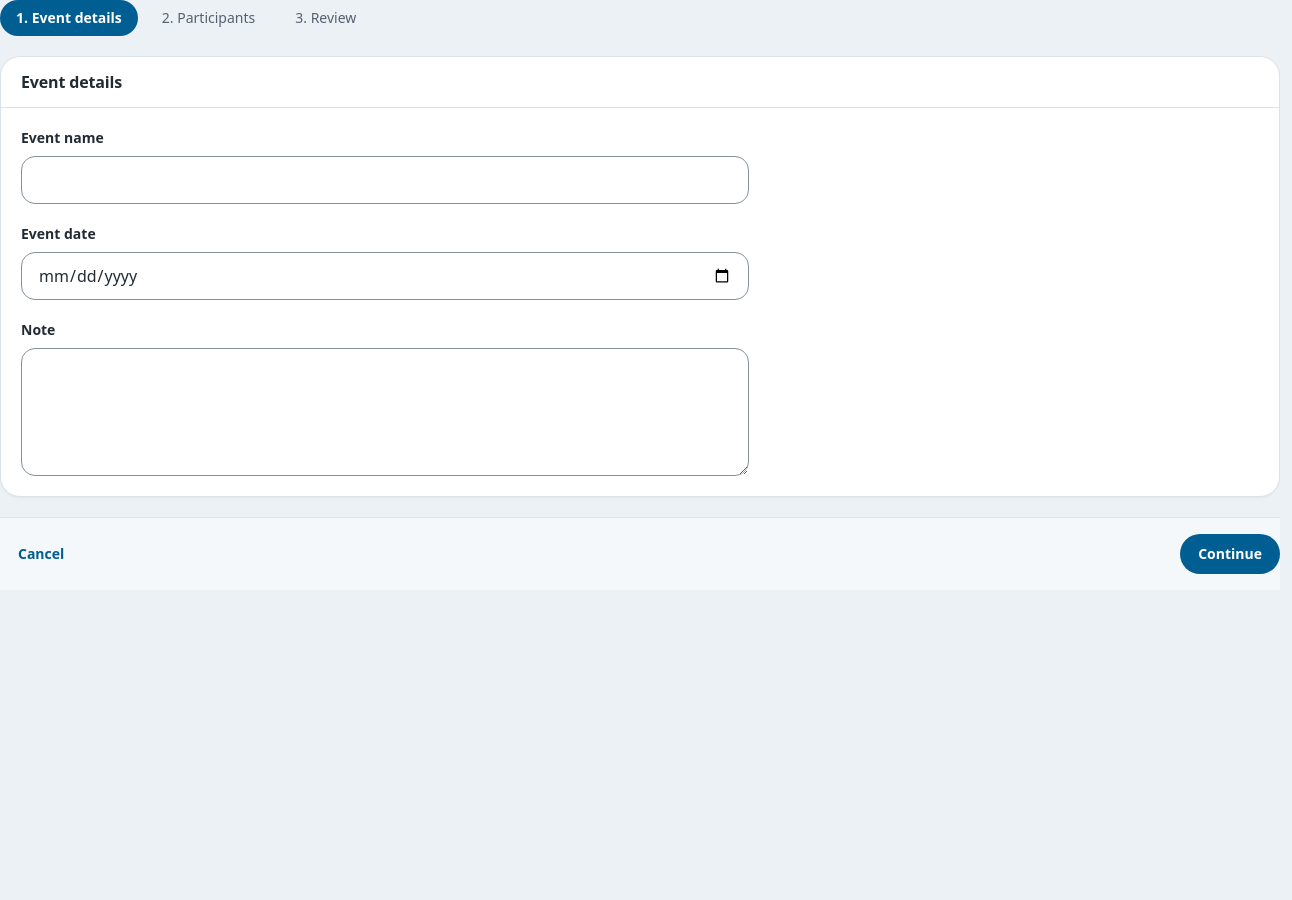
Test: event-first participant proposal form › shows a missing name or date at its own field and moves focus there
Click the button "Continue" at (1230, 554), box [1180,534,1280,574]
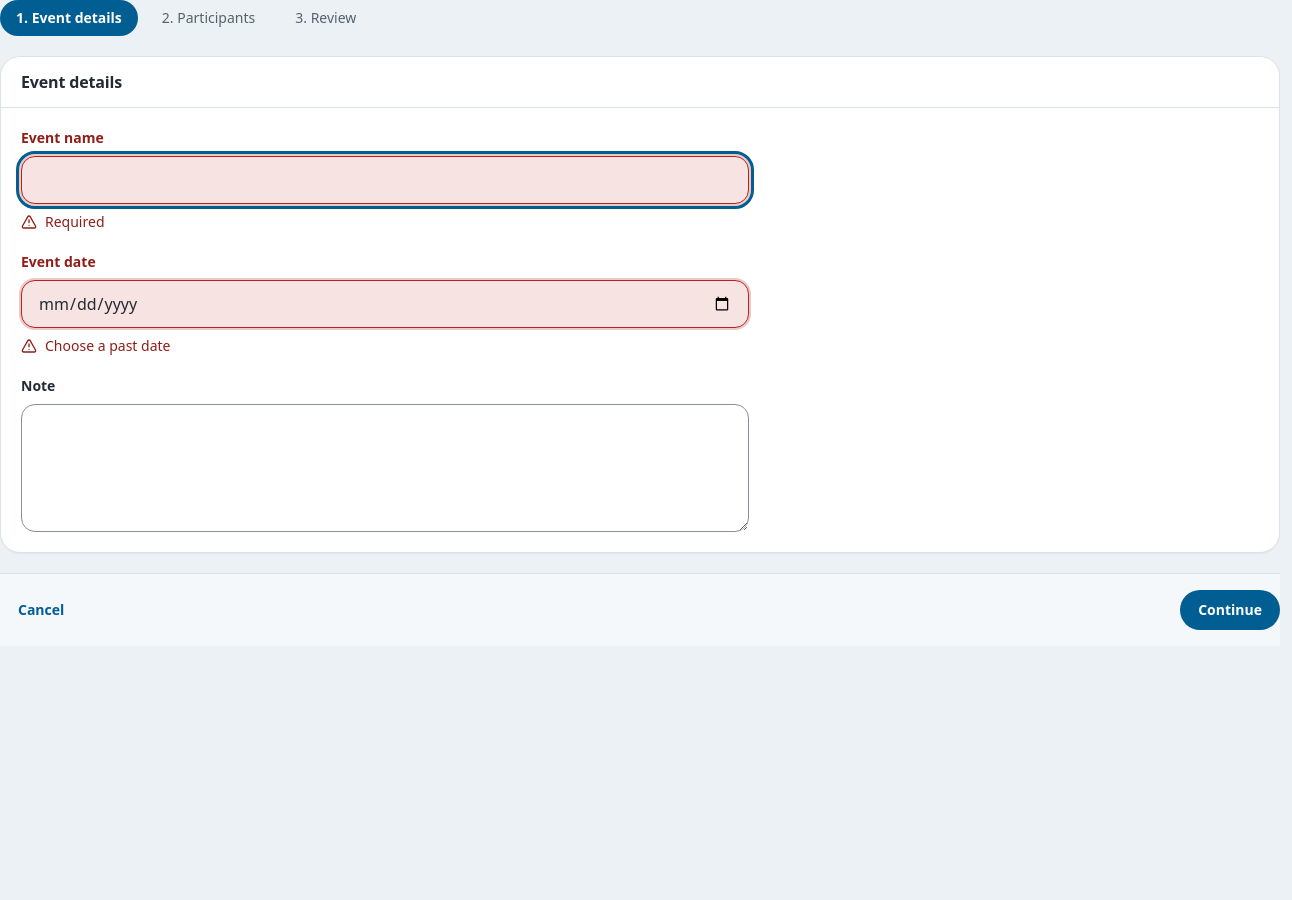
Expected: the list named "Steps" is shown, [0,0,372,36]
Expected: the text "Required" is shown, [45,212,104,232]
Expected: the text "Choose a past date" is shown, [45,336,170,356]
